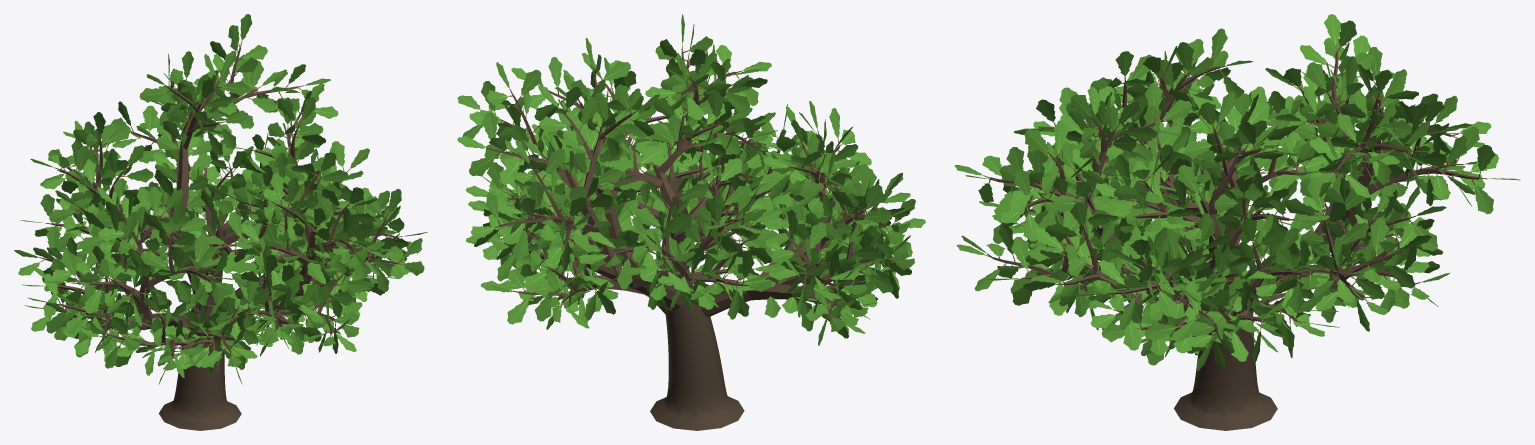
The picture shows the model from 3 angles, left to right: view 1: azimuth 30°, elevation 25°; view 2: azimuth 150°, elevation 25°; view 3: azimuth 270°, elevation 25°; orthographic projection. The views are drawn at different scales.
Parts seen in each view (by area): view 1: body; view 2: body; view 3: body.
Part boxes in pixels (box(x1,y1,x2,y2)): body: box(14, 14, 427, 430); body: box(457, 14, 925, 430); body: box(954, 14, 1520, 430).
Bounding box in the file's own units: 9.45 × 8.04 × 10.12.
Materials: 1 (1 with a texture image).
